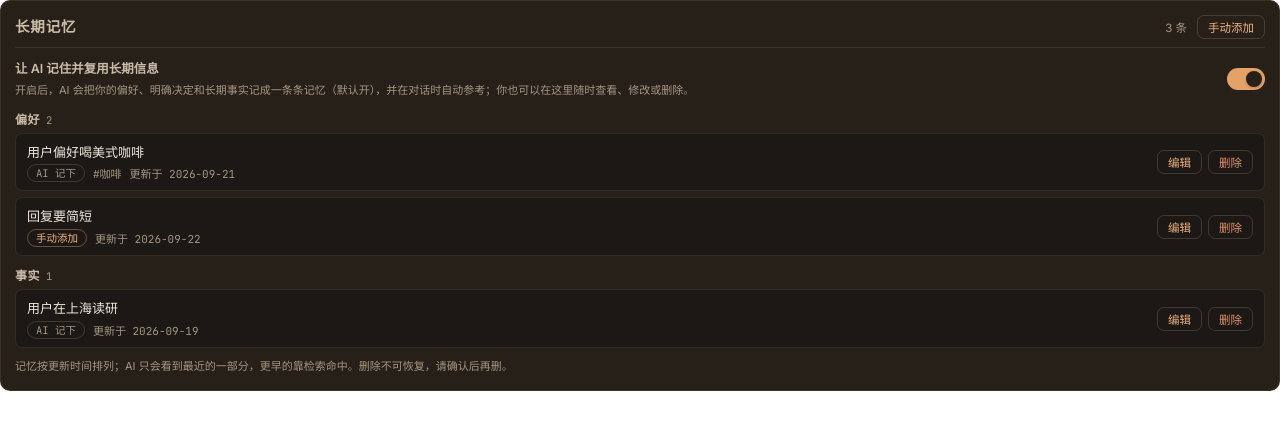
it: MemorySettings 组件（jsdom） › 开关：点击发 PUT 并翻转；关闭后出现后果说明文案
Click the switch with id "memory-enabled-switch" at (1246, 79), box [1227,68,1265,90]
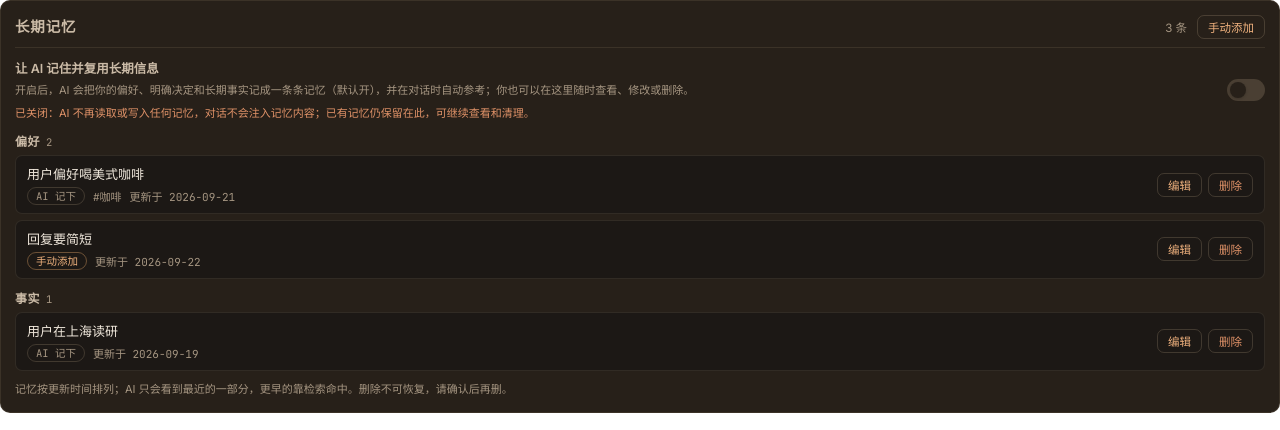
Expected: the text "不再读取或写入任何记忆" is shown, [15,106,535,120]
